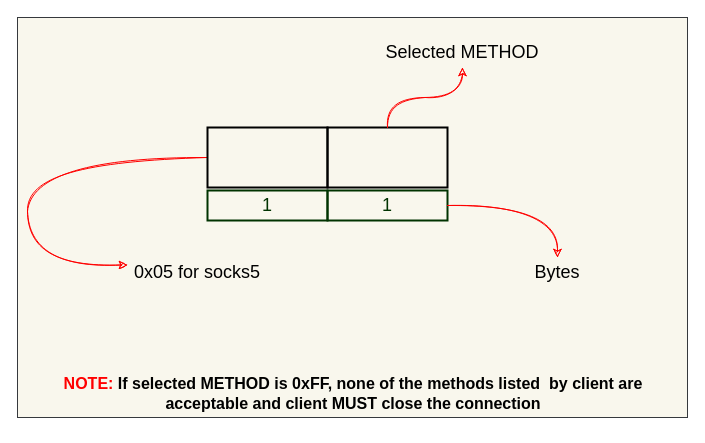
The diagram is 705 pixels wide and 443 high, and some of its shapes have lost their labels. The centre of each missing label's shape, as x and y in pixels:
METHOD: the point at 387,157
VER: the point at 267,157
